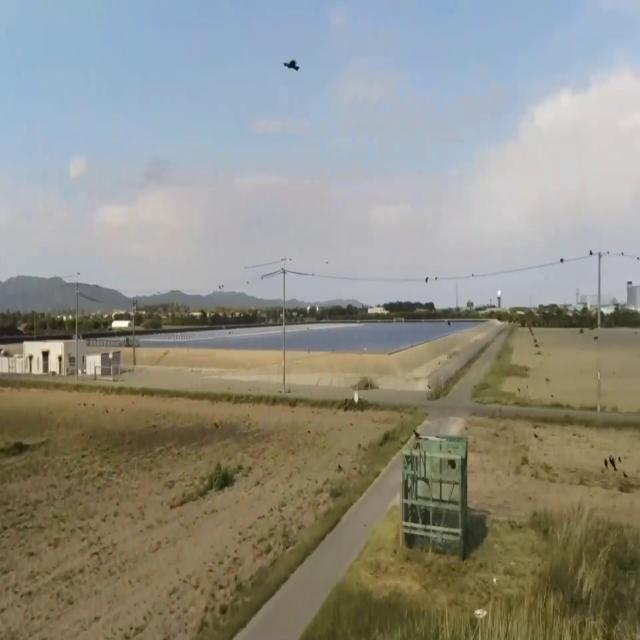bird: (282, 45, 301, 85)
